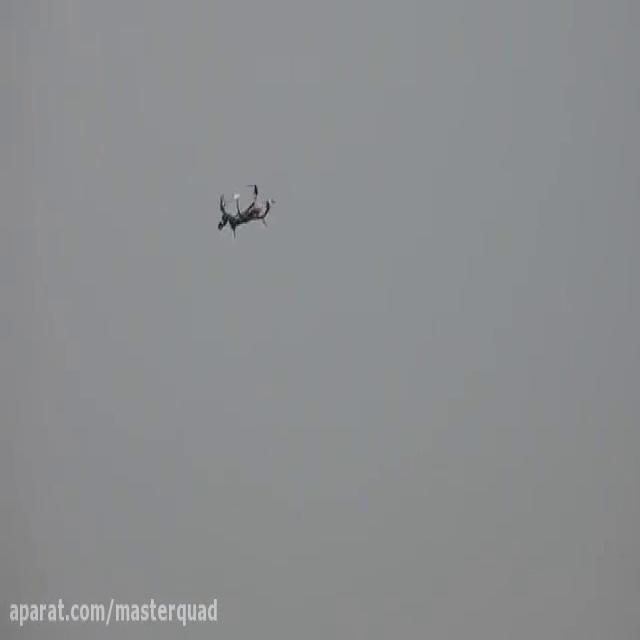drone: (212, 176, 278, 244)
